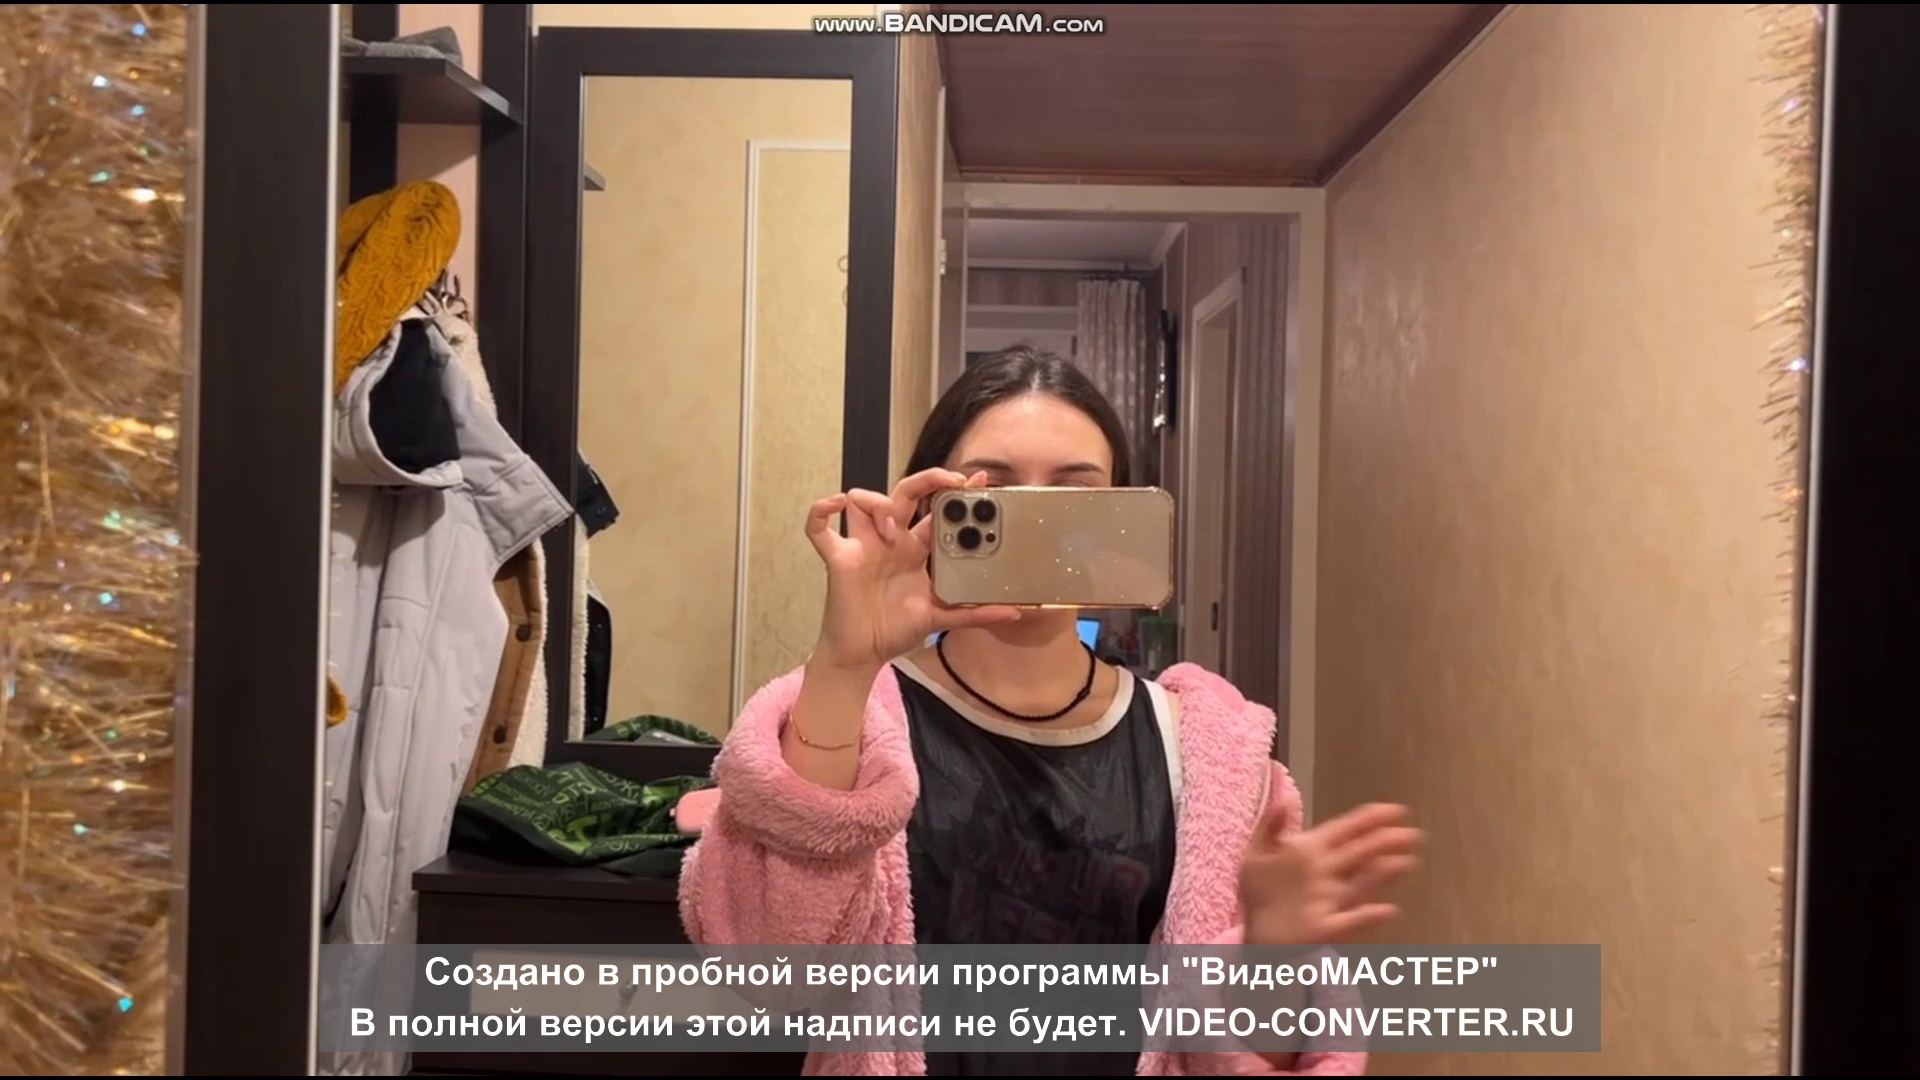Ладонь: (1228, 790, 1420, 942)
